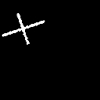single_crochet: (2, 13, 43, 43)
